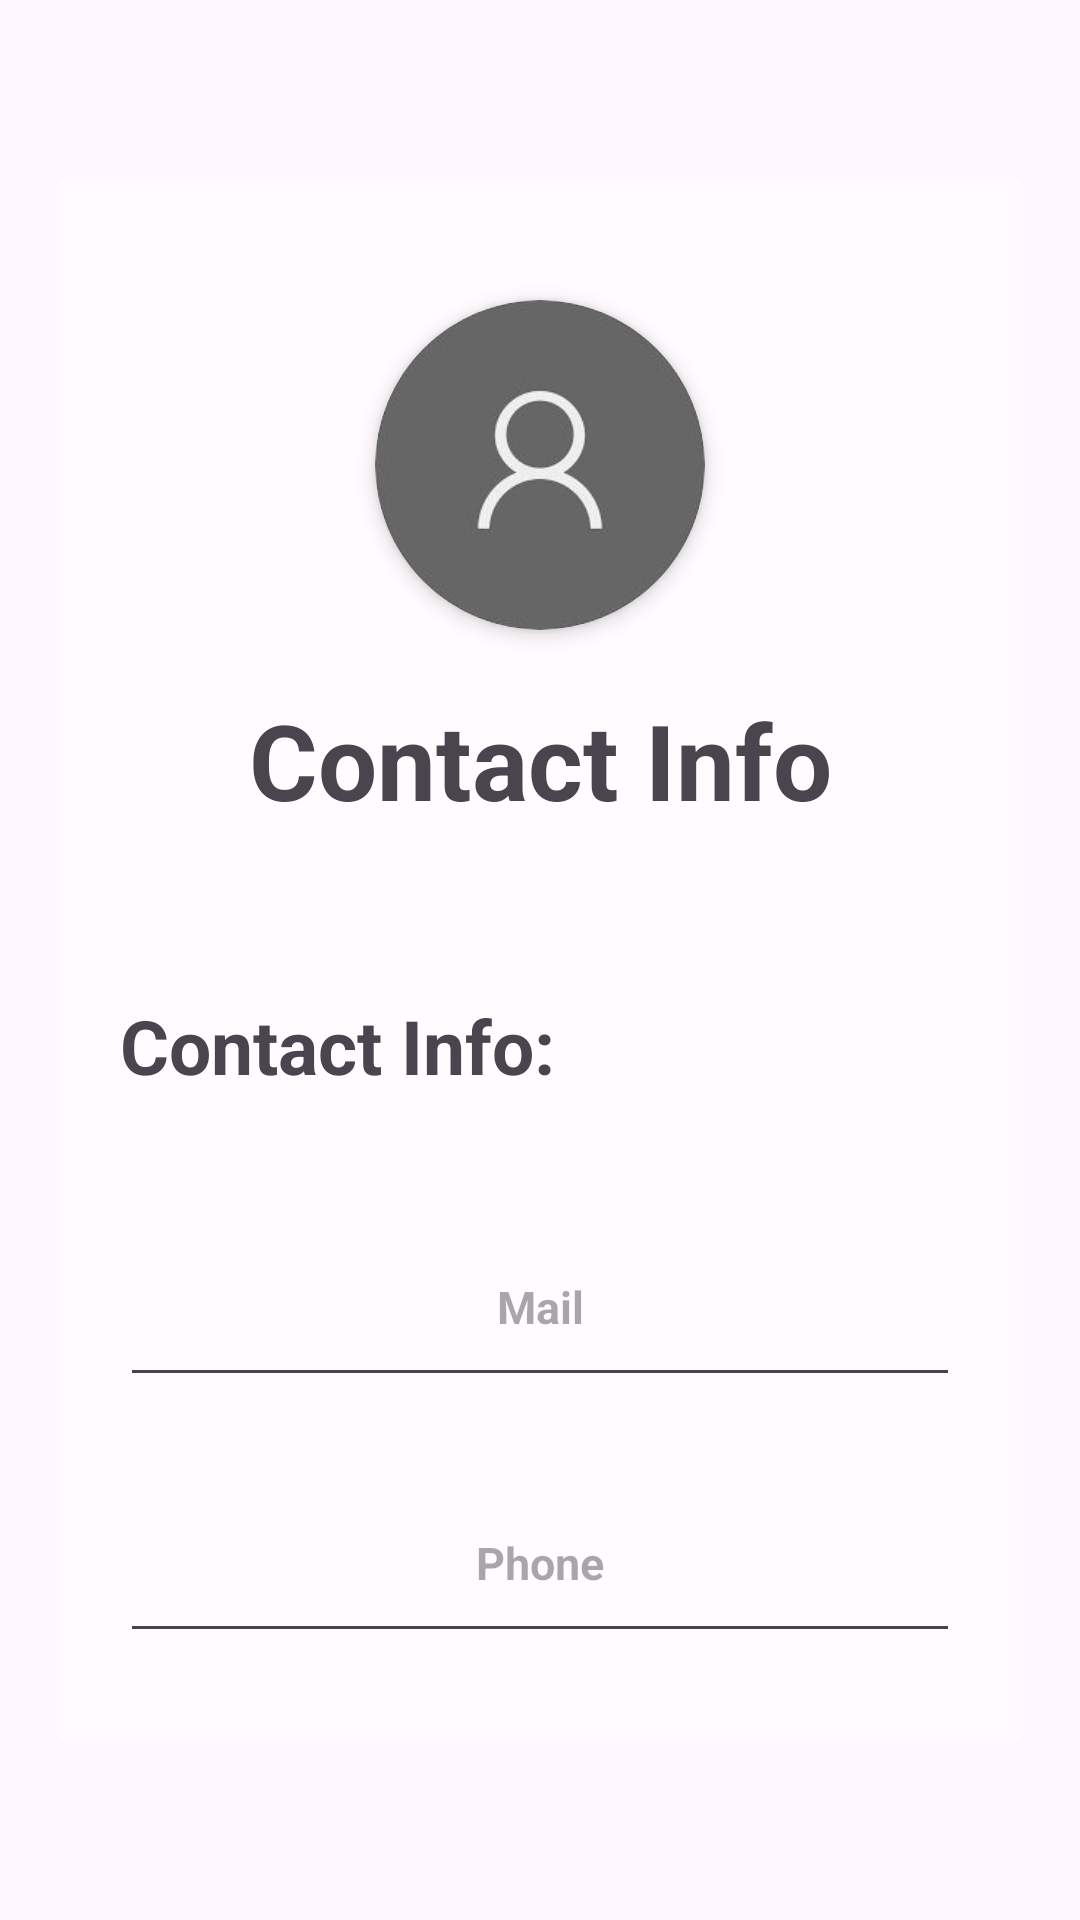

Icons on this 1080*1920 Android screen, each with the point to tap as (x,y):
profilepic: (540,465)
